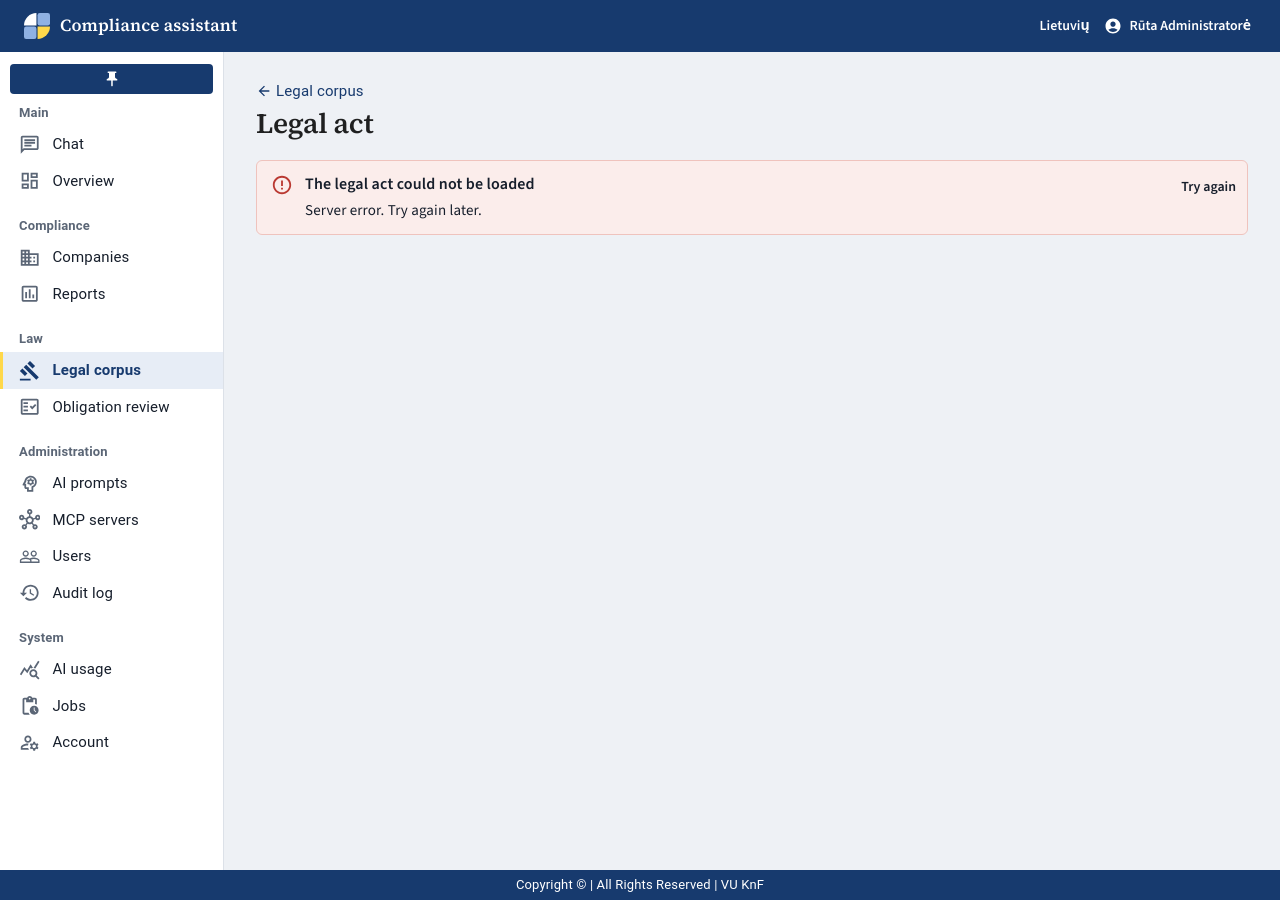
Test: CorpusDocument — the frame › a failed load says so with the translated sentence, and the retry loads the act
The width and height of the screenshot is (1280, 900).
Expected: the heading "Legal act" is shown, [256,104,374,142]
Expected: the message shows "The legal act could not be loaded", [305,173,535,194]
What coordinates should you click on to do the following:
click the button "Try again"
I would click on:
 (1209, 187)
Its box is [1176,171,1241,204].
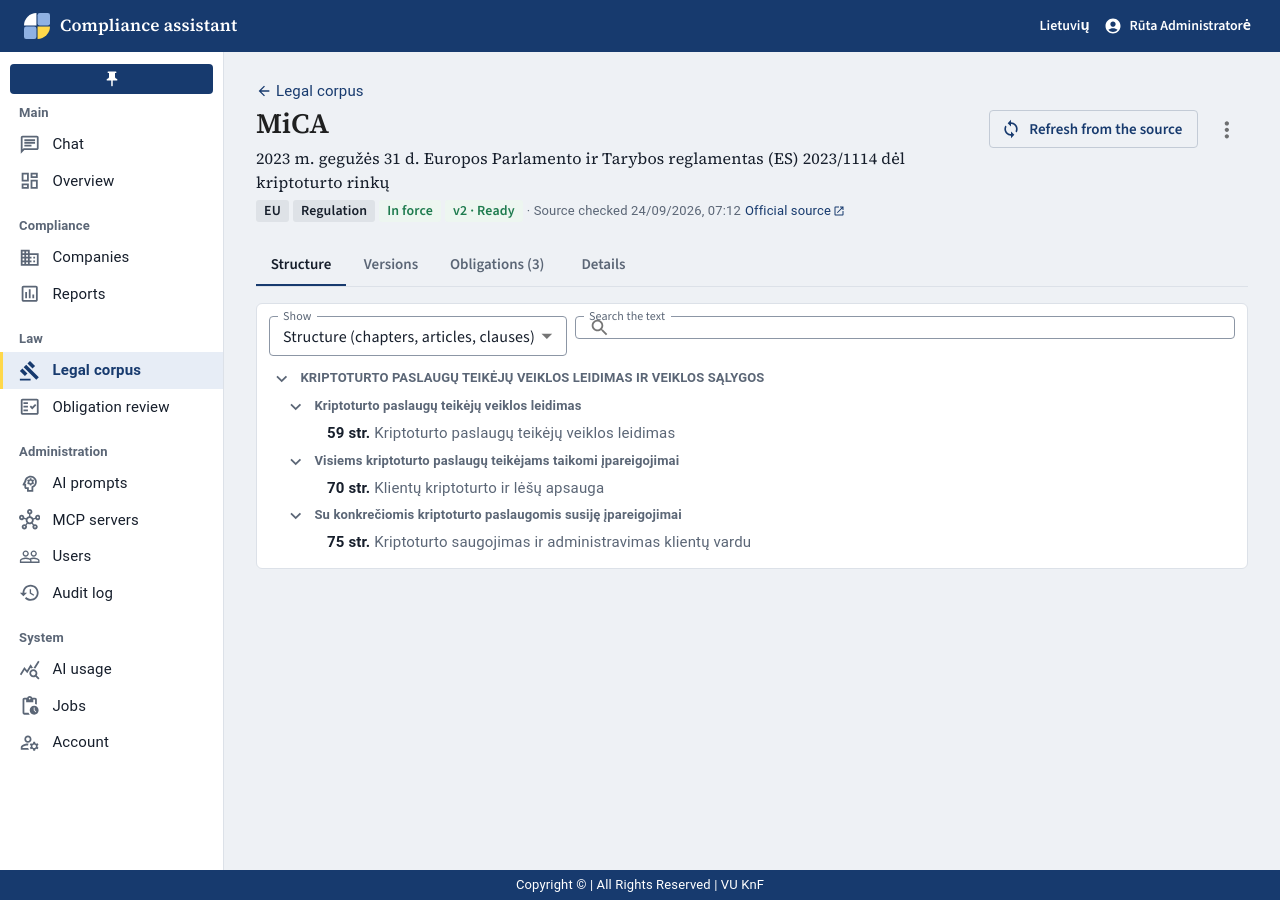
Result: the message "The legal act could not be loaded Server error. Try again later. Try again" is gone
